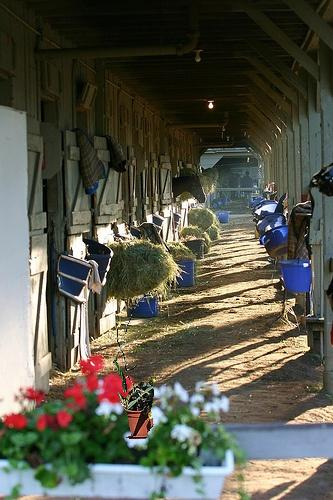tampered: (114, 291, 159, 439)
